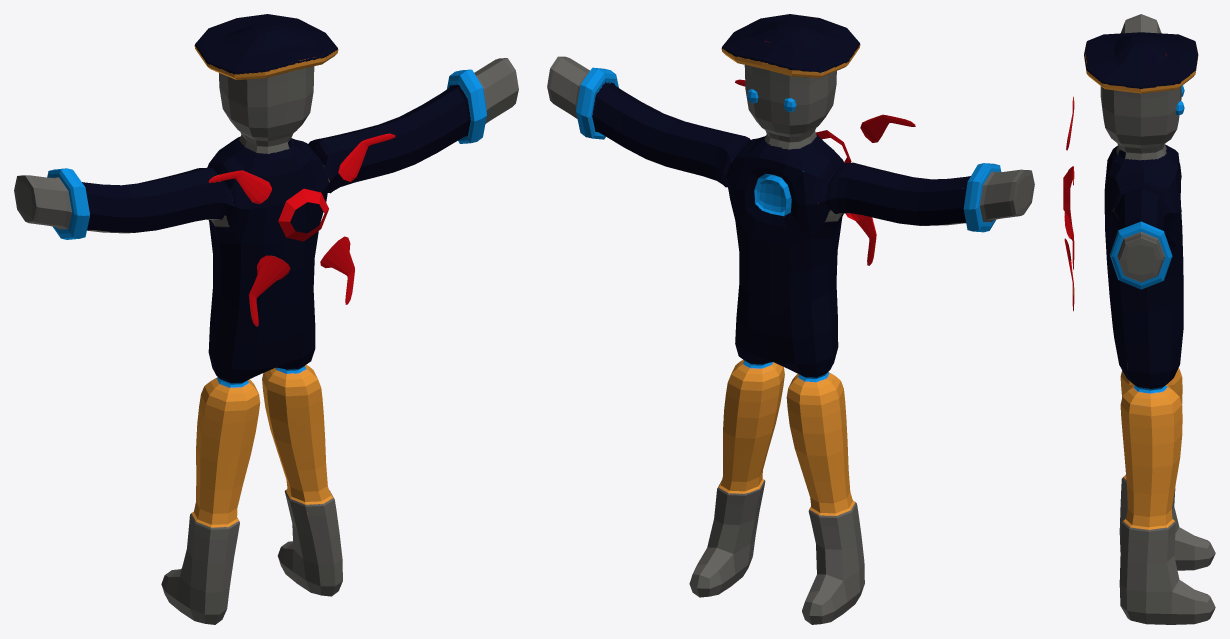
The model's file is Dumbboy.fbx.
3 views of the same model, side by side, from view 1: azimuth 30°, elevation 25°; view 2: azimuth 150°, elevation 25°; view 3: azimuth 270°, elevation 25° (orthographic). The views are drawn at different scales.
Visible parts, largest first — view 1: Dumb Player; view 2: Dumb Player; view 3: Dumb Player.
Part boxes in pixels (bbox=[...]): Dumb Player: bbox=[14, 14, 518, 624]; Dumb Player: bbox=[547, 14, 1034, 624]; Dumb Player: bbox=[1063, 14, 1215, 624].
Size of the model in its own units: 1435 by 1657 by 412.
Materials: 1 (1 with a texture image).
